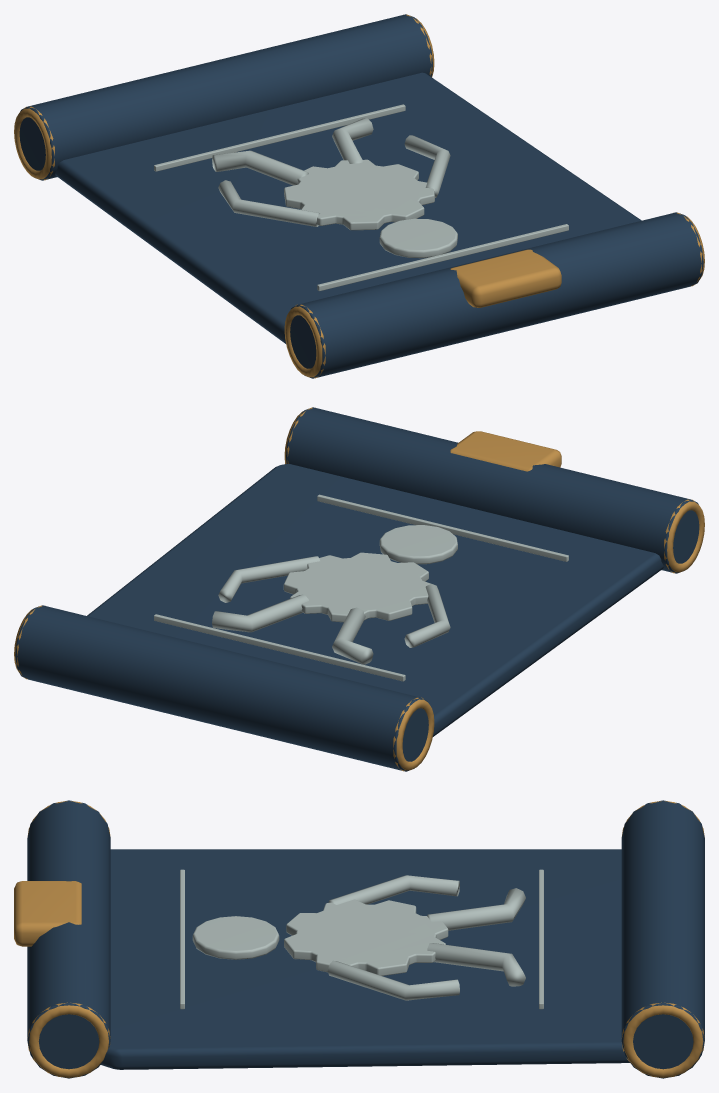
Rendered from bp_automaton.glb.
3 renders of one model, top to bottom at view 1: azimuth 30°, elevation 25°; view 2: azimuth 150°, elevation 25°; view 3: azimuth 270°, elevation 25°, orthographic. The views are drawn at different scales.
Parts seen in each view (by area): view 1: SM_bp_automaton; view 2: SM_bp_automaton; view 3: SM_bp_automaton.
Boxes of the visible parts, x1,y1,x2,y2 form: SM_bp_automaton: [14, 14, 704, 378]; SM_bp_automaton: [14, 407, 704, 771]; SM_bp_automaton: [14, 800, 704, 1078].
Bounding box in the file's own units: 0.2963 × 0.05 × 0.414.
